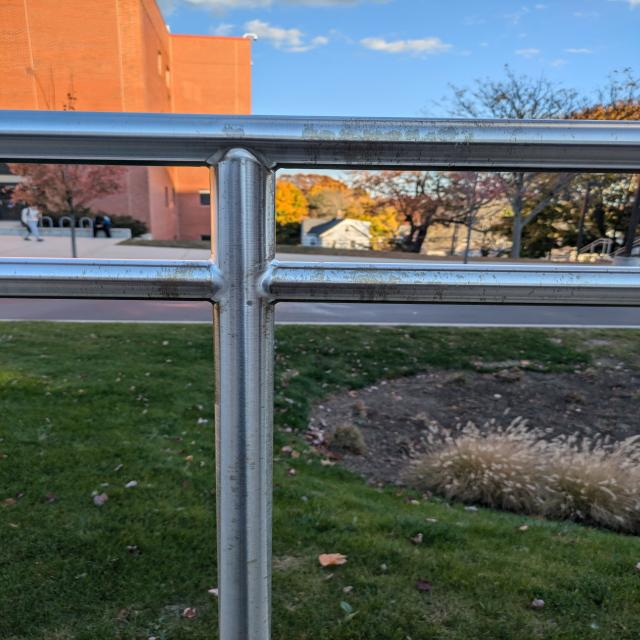Uniform Corrosion: (149, 118, 640, 640)
